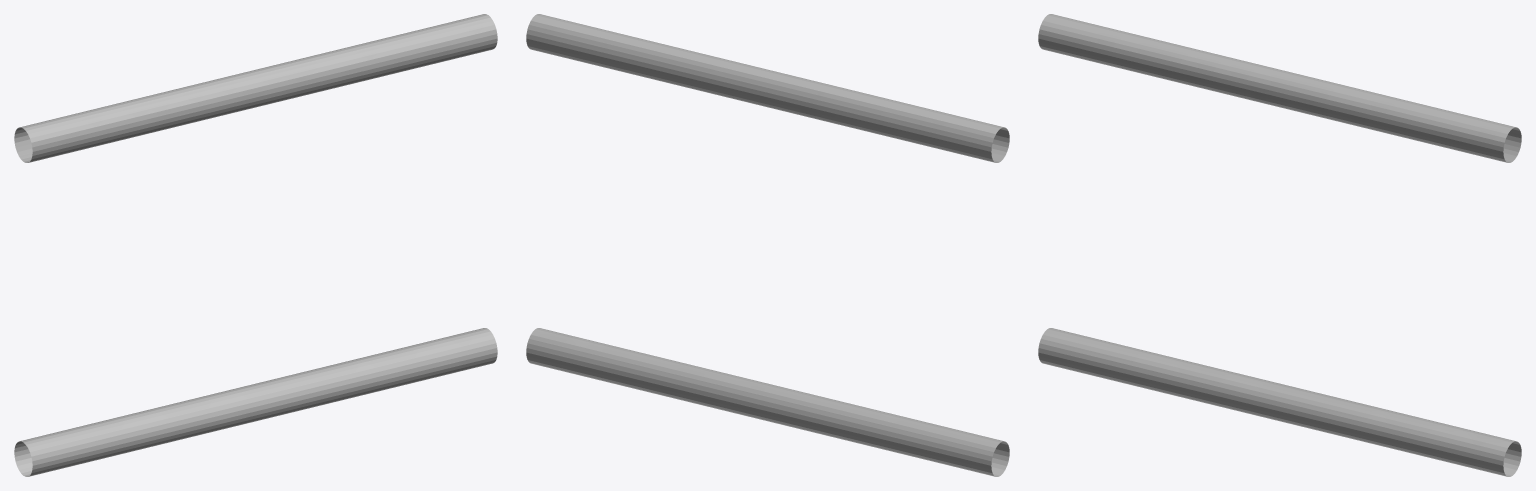
The model's file is mst110cr-vessel_rod.dae.
The picture shows the model from 3 angles, left to right: view 1: azimuth 30°, elevation 25°; view 2: azimuth 150°, elevation 25°; view 3: azimuth 330°, elevation 25°; orthographic projection.
Parts seen in each view (by area): view 1: node; view 2: node; view 3: node.
Part boxes in pixels (<box>): node: <box>14,14,497,476</box>; node: <box>526,14,1009,476</box>; node: <box>1038,14,1521,476</box>.
Size of the model in its own units: 1.05 by 0.752 by 0.0722.
1 material, 1 textured.
